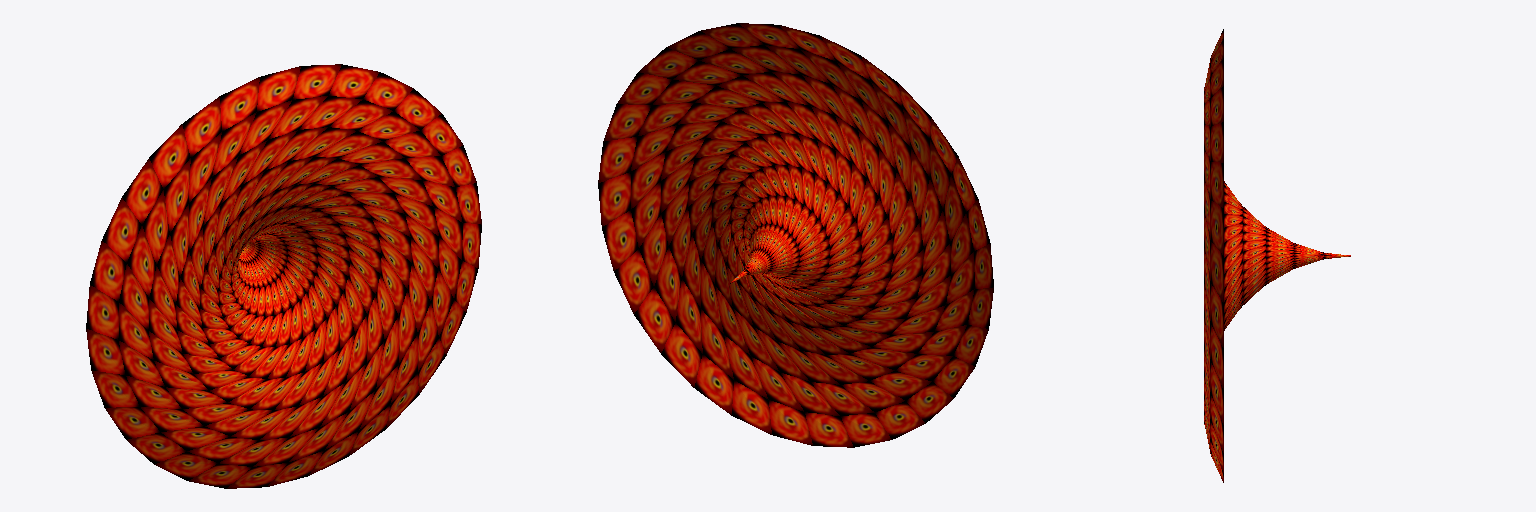
3 views of the same model, side by side, from view 1: azimuth 30°, elevation 25°; view 2: azimuth 150°, elevation 25°; view 3: azimuth 270°, elevation 25° (orthographic).
Parts seen in each view (by area): view 1: Torus.002; view 2: Torus.002; view 3: Torus.002.
Boxes of the visible parts, <box> form: Torus.002: <box>86,64,481,488</box>; Torus.002: <box>598,23,993,447</box>; Torus.002: <box>1204,29,1350,482</box>.
Bounding box in the file's own units: 30 × 29.89 × 9.95.
1 materials, 1 textured.